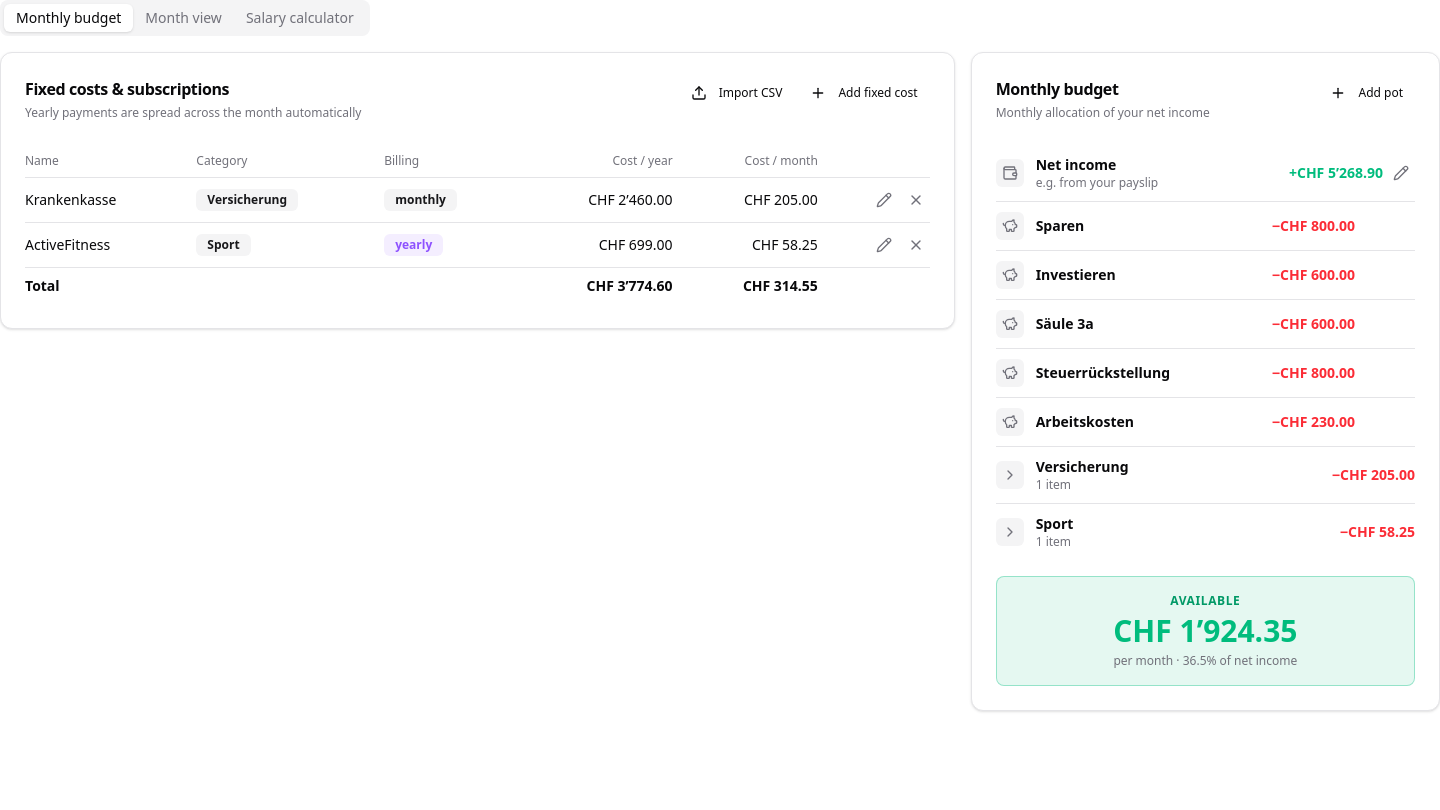
Scenario: BudgetPage › switches to the salary calculator tab
Click the tab "Salary calculator" at (300, 18), box [234,4,366,32]
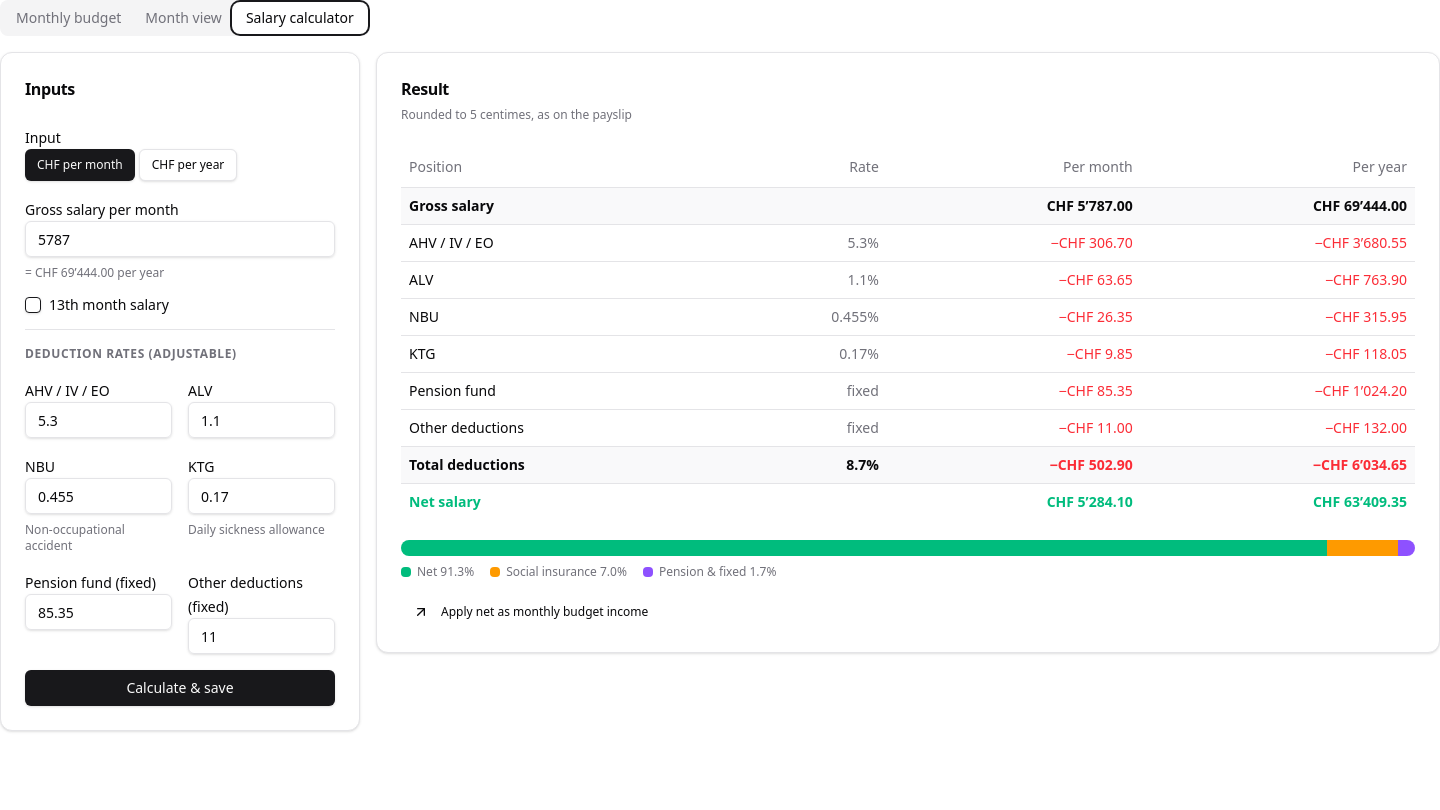
Expected: the number field labelled "Gross salary per month" holds "5787", [25,221,335,257]
